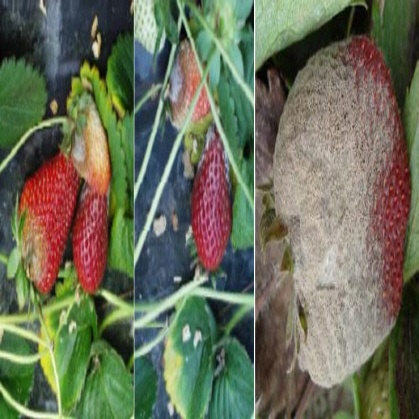Gray_Mold: (273, 31, 413, 386), (169, 129, 202, 379), (66, 150, 111, 329)
